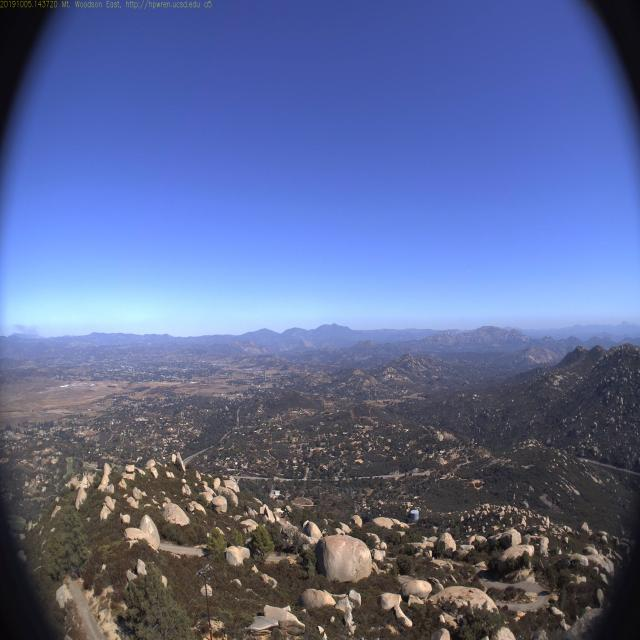smoke: (10, 316, 43, 340)
